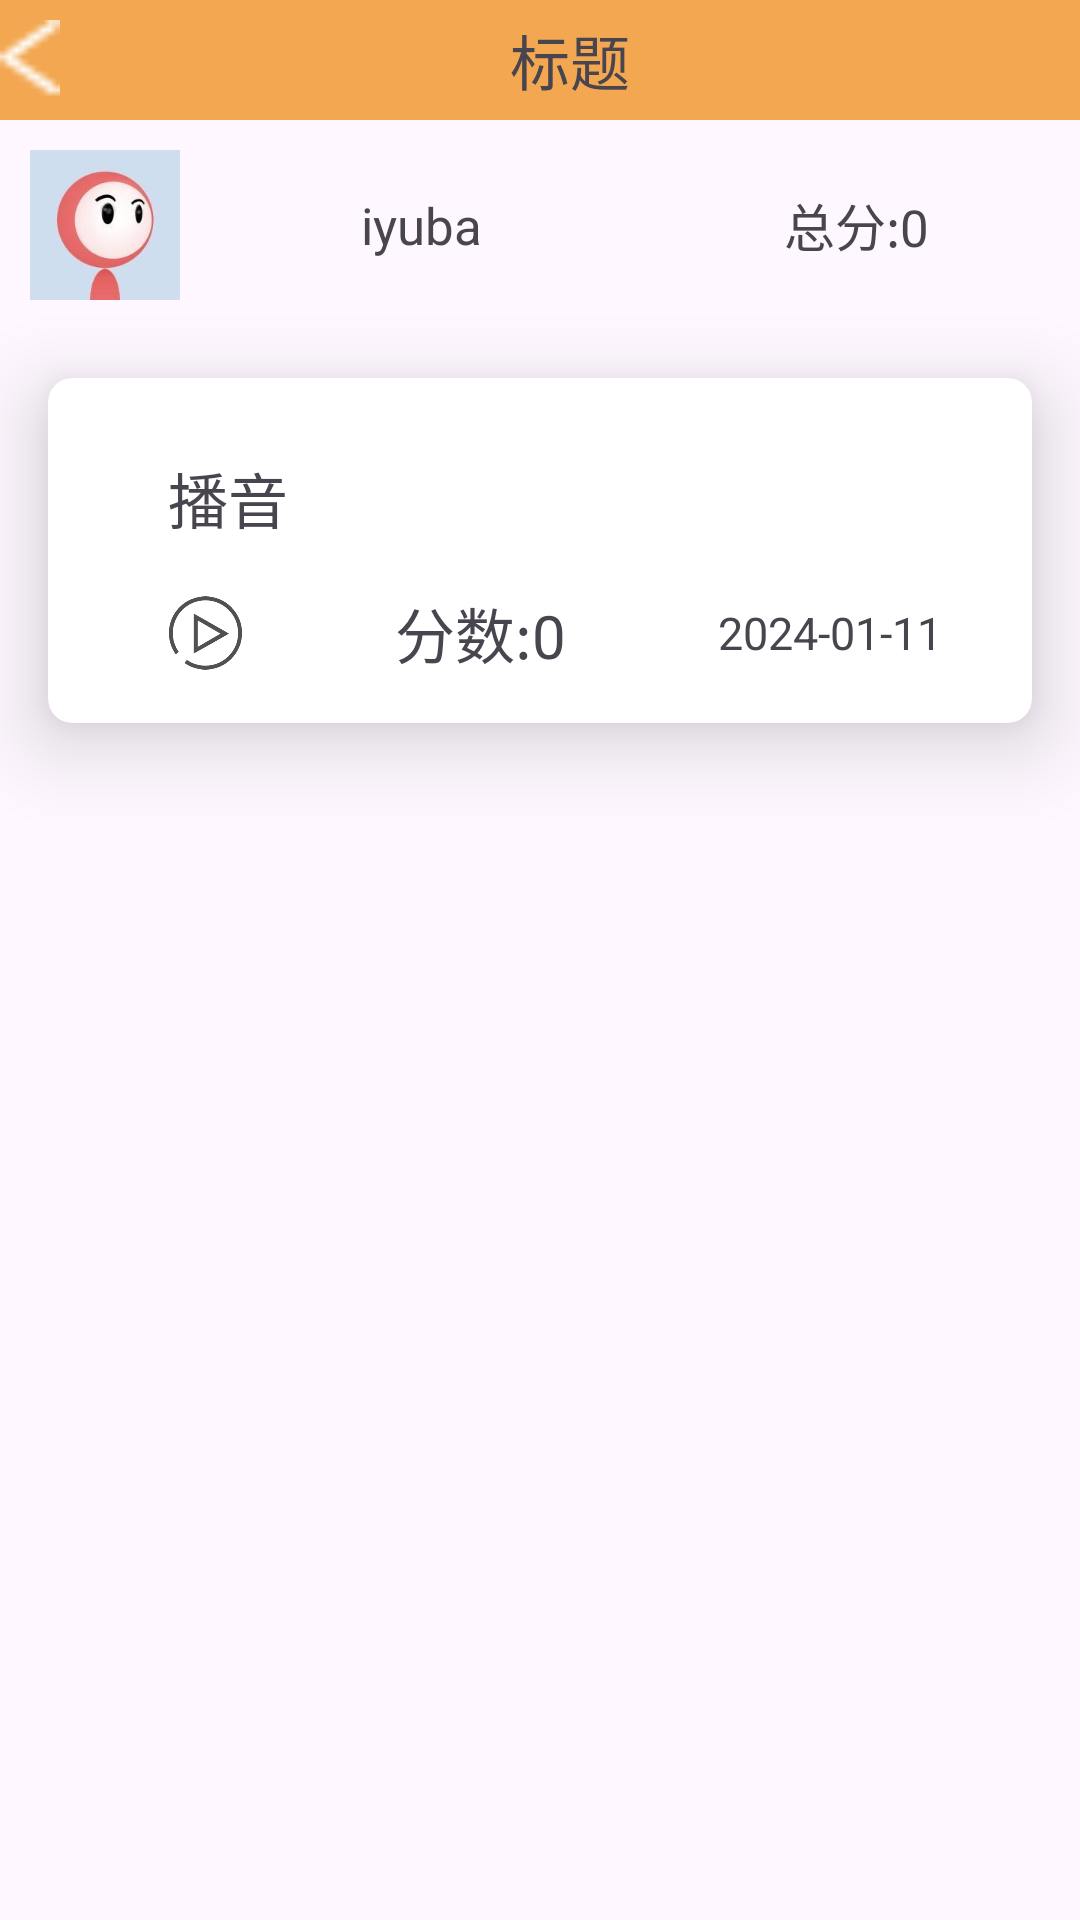

Screen size 1080x1920. Icon name, then its box in pixels as BBox(x1, y1, x2, y2):
back: BBox(0, 20, 60, 96)
begin: BBox(169, 596, 242, 670)
person: BBox(30, 150, 180, 300)
